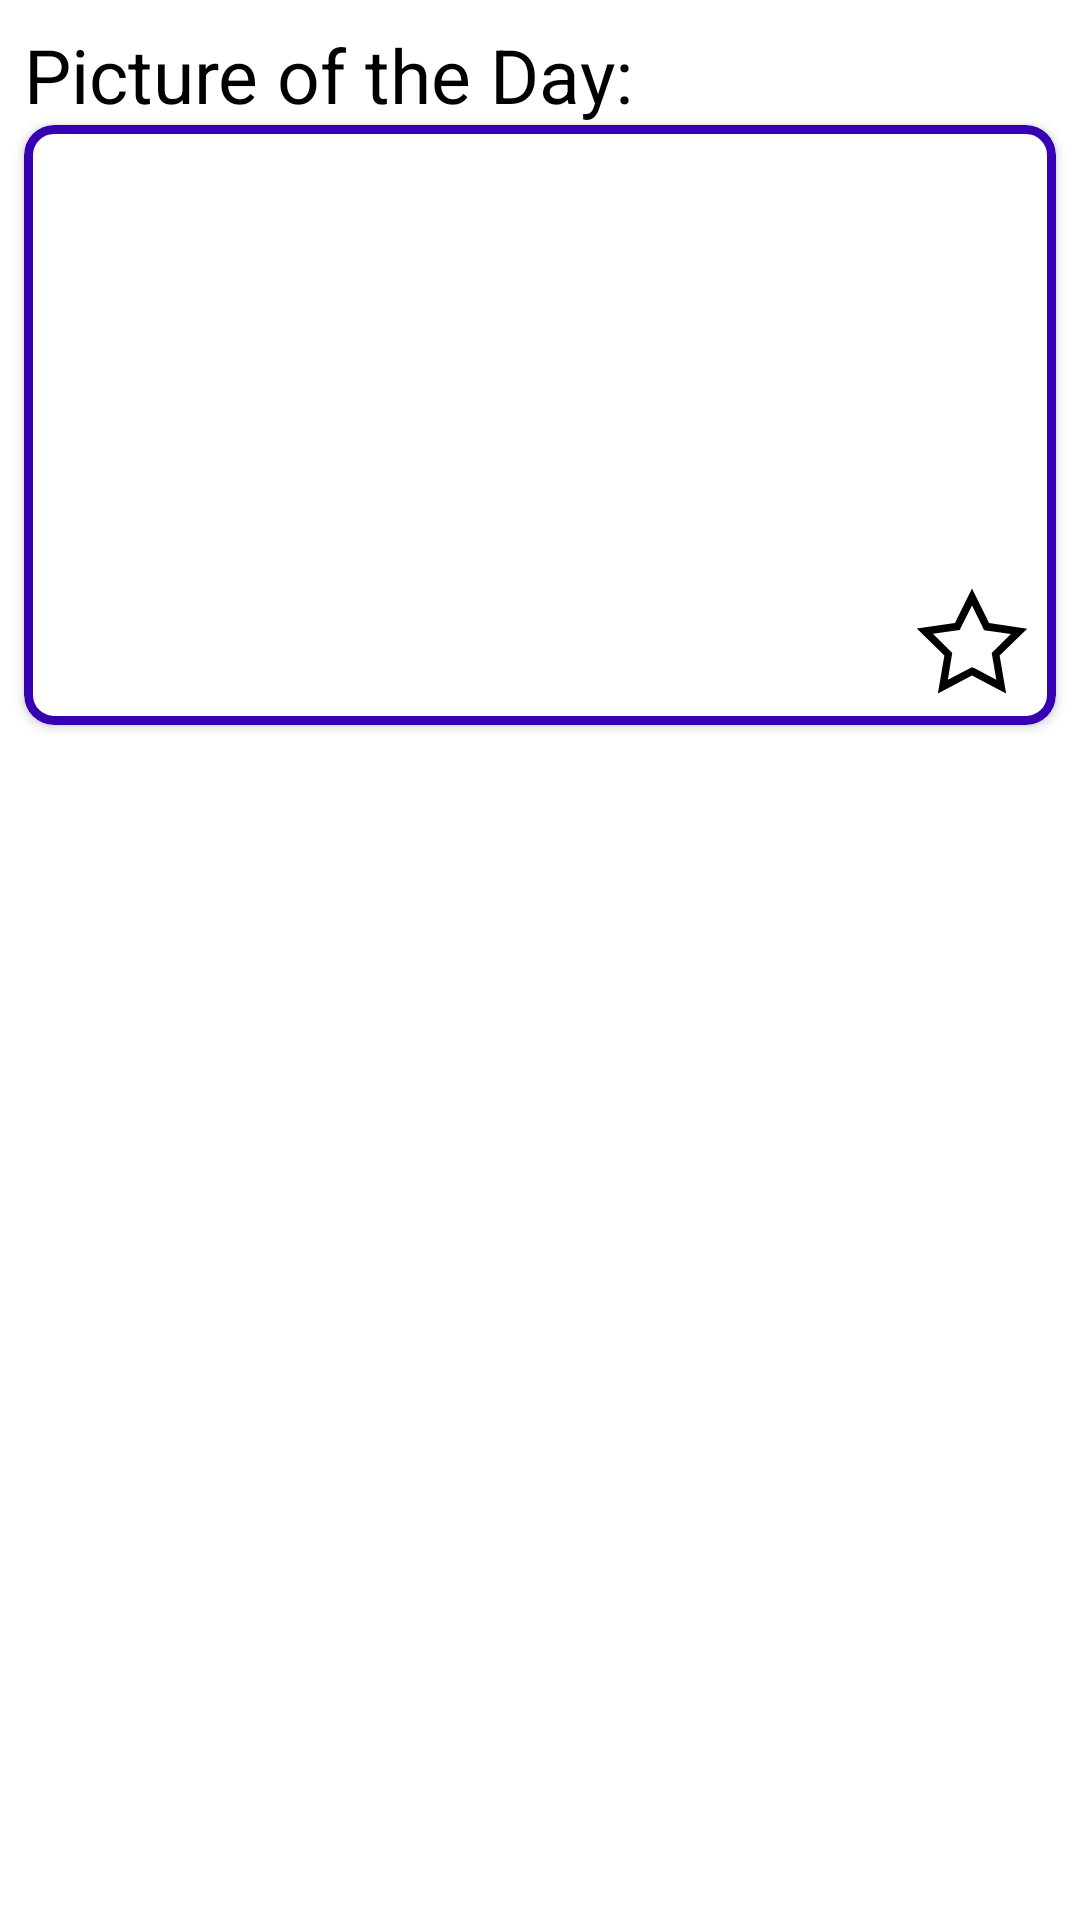

Named icons in this screenshot (1080x1920) and their bounding boxes, (x1, y1, x2, y2):
star: (917, 589, 1027, 694)
